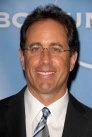male: (16, 12, 79, 99)
